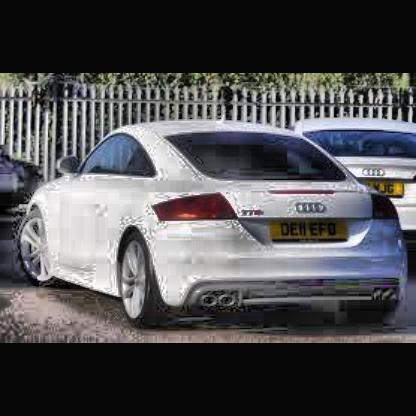Audi TT Hatchback 2011: (23, 123, 409, 332)
